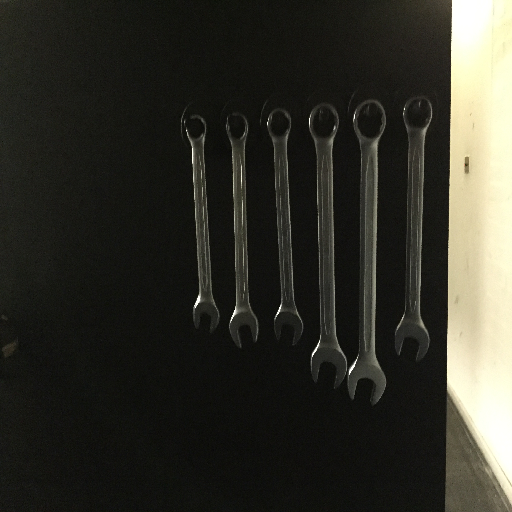bottom: (346, 355, 388, 407), (308, 343, 349, 393), (393, 319, 431, 364), (227, 308, 263, 351), (271, 306, 305, 347), (190, 297, 221, 333)
top: (350, 98, 388, 144), (306, 100, 342, 146), (399, 94, 436, 134), (221, 110, 253, 146), (265, 107, 294, 143), (181, 112, 210, 145)
